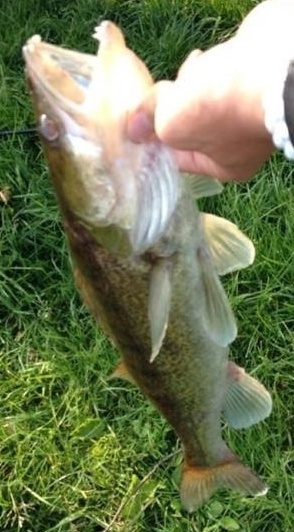Sander lucioperca: (20, 20, 274, 512)
